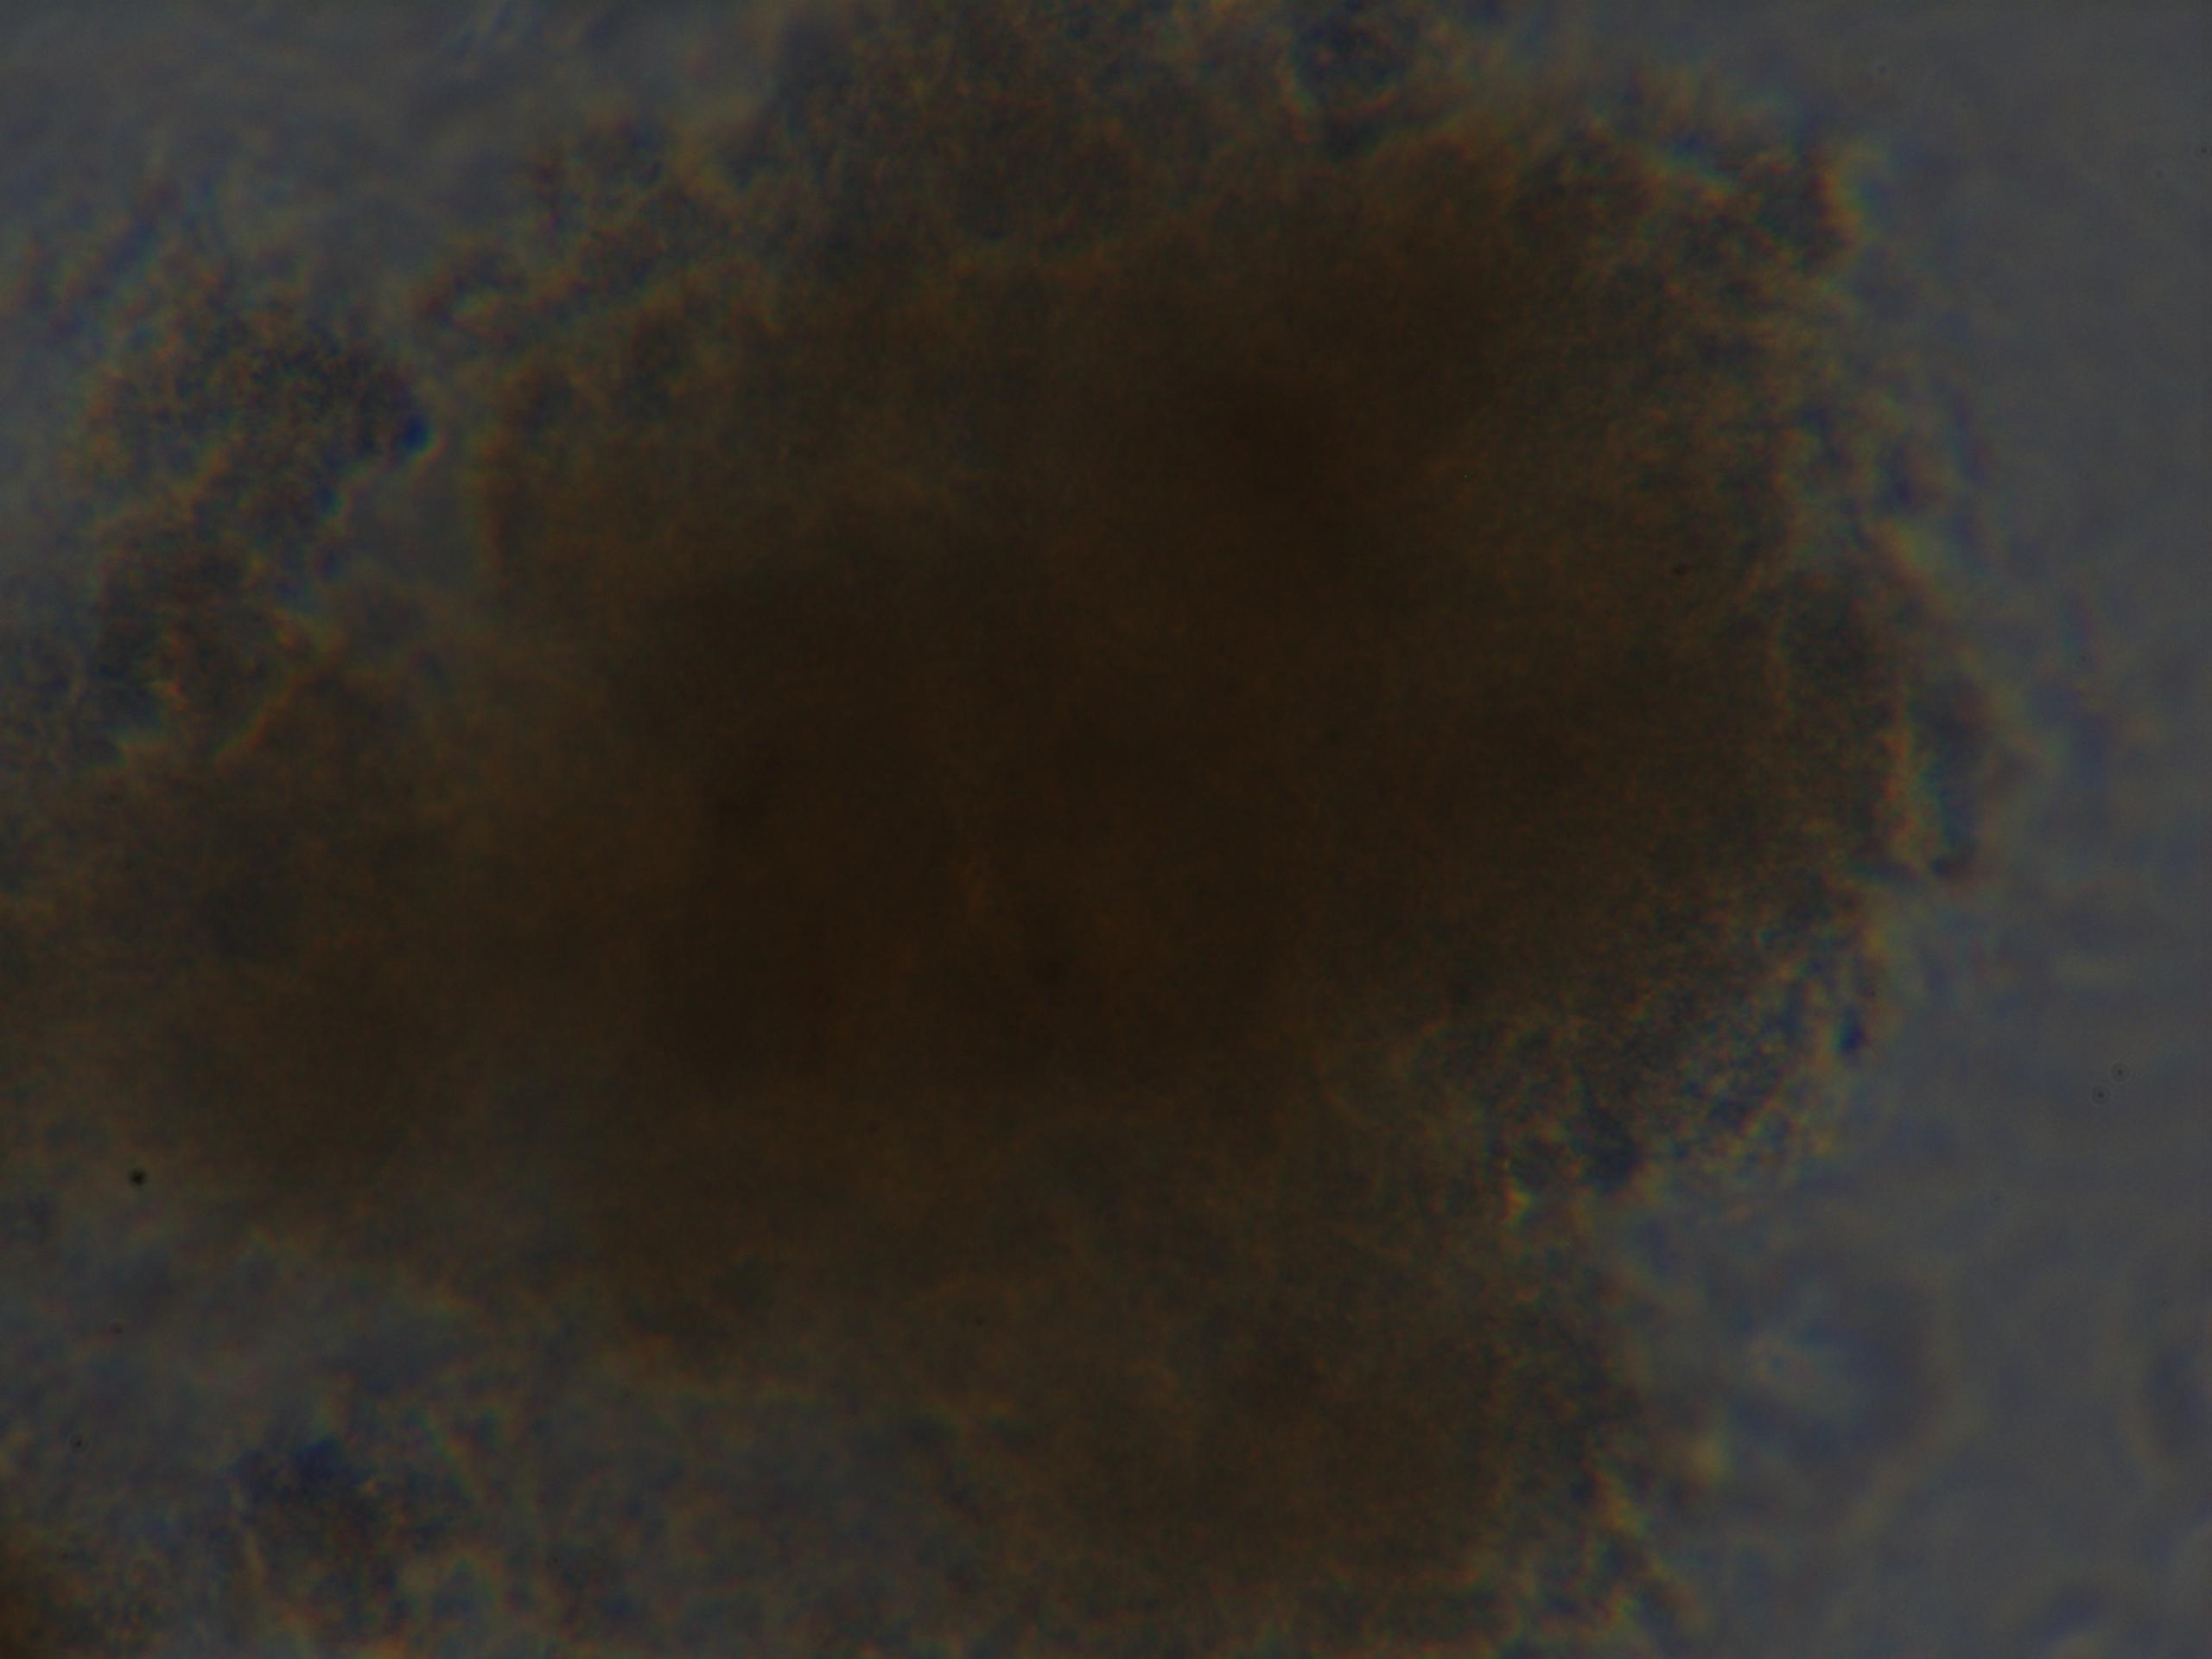spherical_floc: (0, 5, 1963, 1659)
